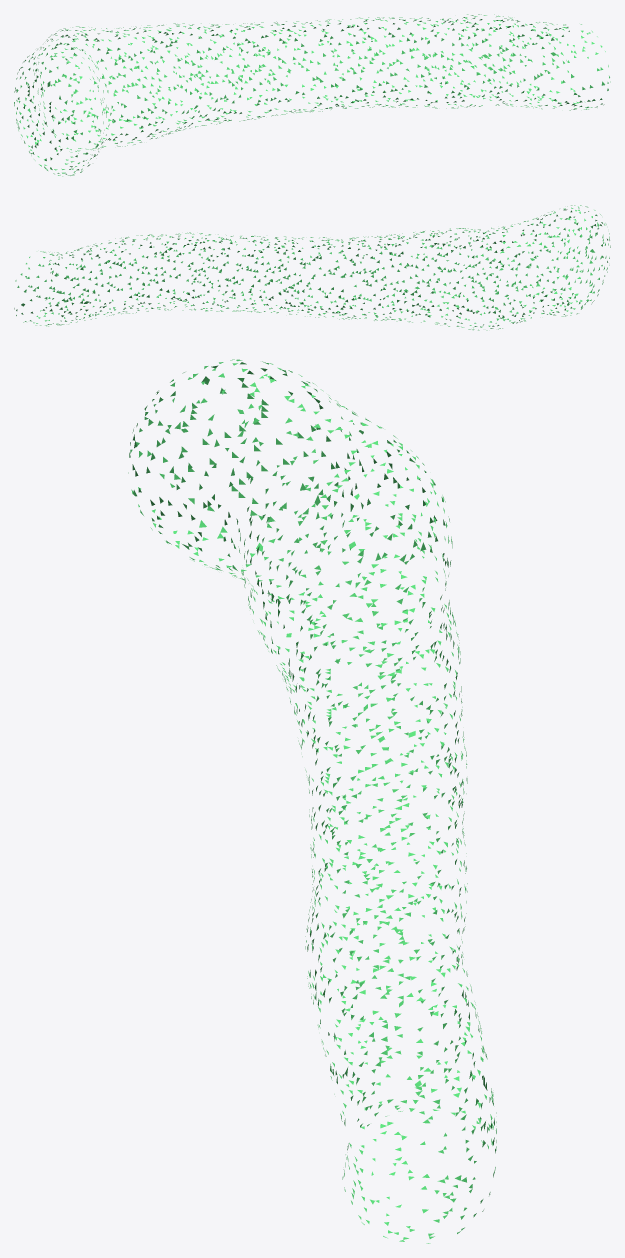
File: morph_020.glb
3 renders of one model, top to bottom at view 1: azimuth 30°, elevation 25°; view 2: azimuth 150°, elevation 25°; view 3: azimuth 270°, elevation 25°, orthographic. The views are drawn at different scales.
Bounding box in the file's own units: 121 × 44.6 × 37.57.
